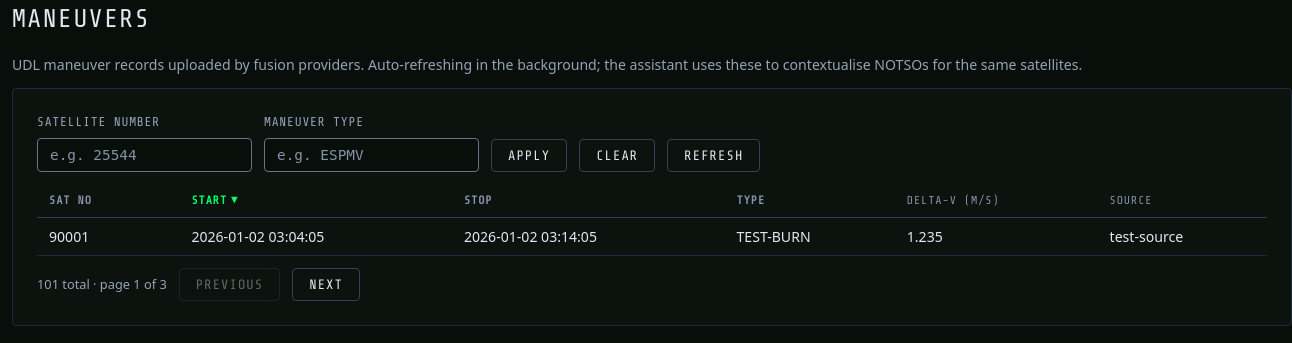
Test case: the maneuvers page › pages through the results 50 at a time
The width and height of the screenshot is (1292, 343).
expect the text "101 total · page 1 of 3" is shown: met, box [37,275,167,294]
expect the button "Previous" is disabled: met, box [179,268,280,301]
Click the button "Next": (326, 285) [292,268,360,301]
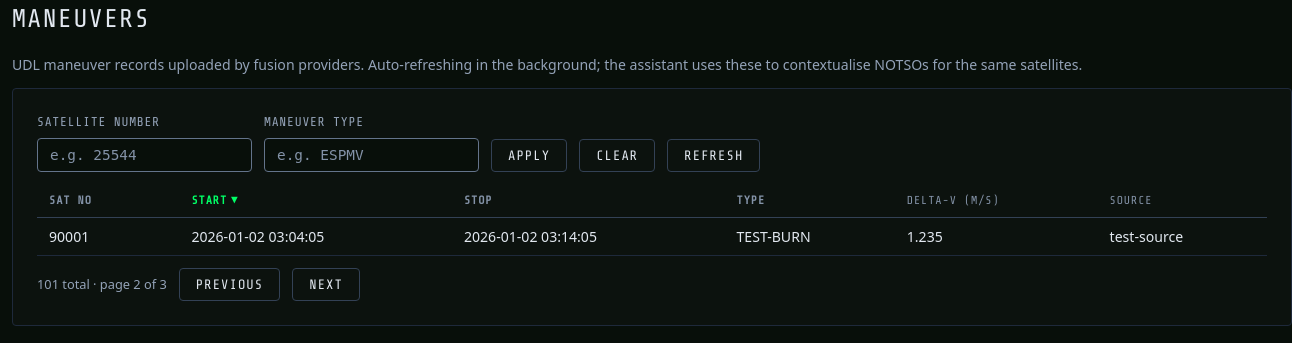
expect the text "101 total · page 2 of 3" is shown: met, box [37,275,167,294]
Click the button "Next": (326, 285) [292,268,360,301]
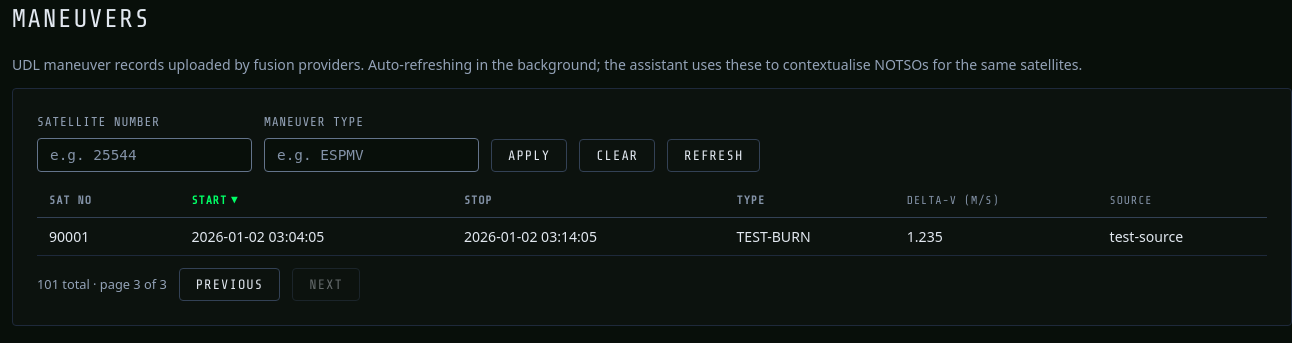
expect the text "101 total · page 3 of 3" is shown: met, box [37,275,167,294]
expect the button "Next" is disabled: met, box [292,268,360,301]
Click the button "Previous": (230, 285) [179,268,280,301]
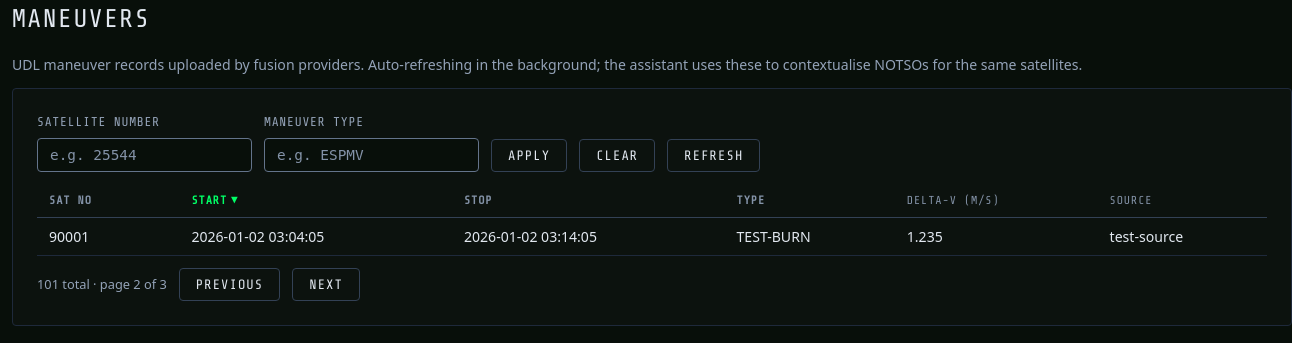
expect the text "101 total · page 2 of 3" is shown: met, box [37,275,167,294]
